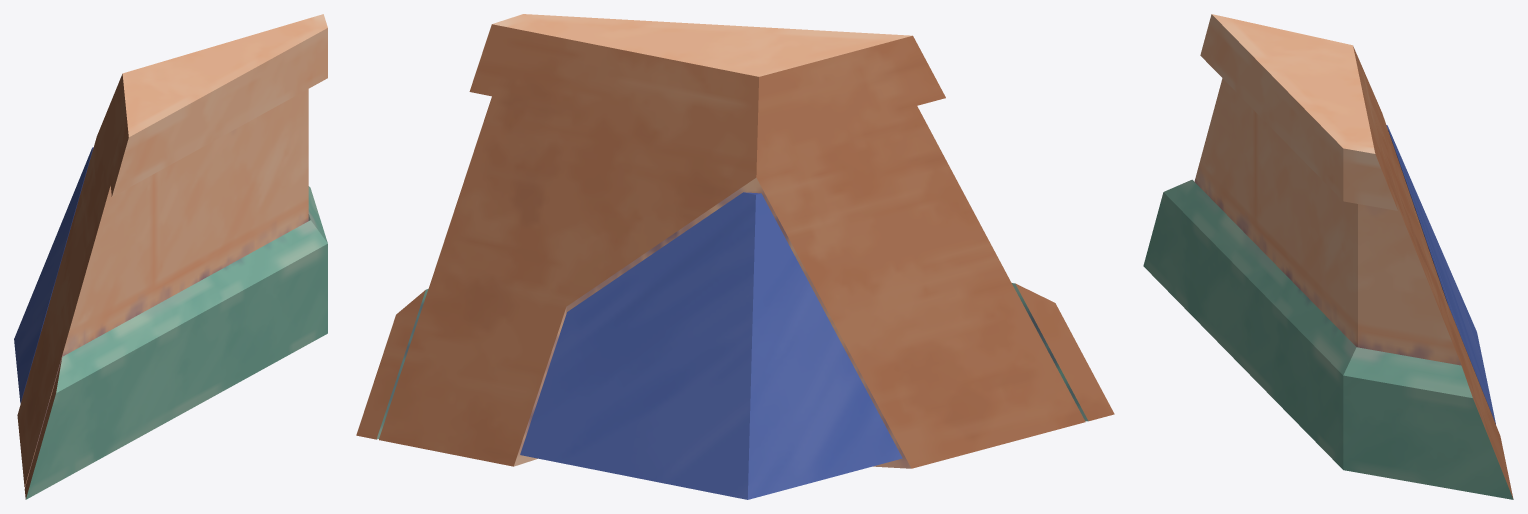
The model's file is vat_indigo_s00.fbx.
The picture shows the model from 3 angles, left to right: view 1: azimuth 30°, elevation 25°; view 2: azimuth 150°, elevation 25°; view 3: azimuth 270°, elevation 25°; orthographic projection. The views are drawn at different scales.
Visible parts, largest first — view 1: vat_indigo_s00; view 2: vat_indigo_s00; view 3: vat_indigo_s00.
Part boxes in pixels (x1,y1,x2,y2): vat_indigo_s00: [14, 14, 327, 499]; vat_indigo_s00: [356, 14, 1114, 499]; vat_indigo_s00: [1143, 14, 1513, 499].
Bounding box in the file's own units: 2.65 × 1.7 × 1.77.
